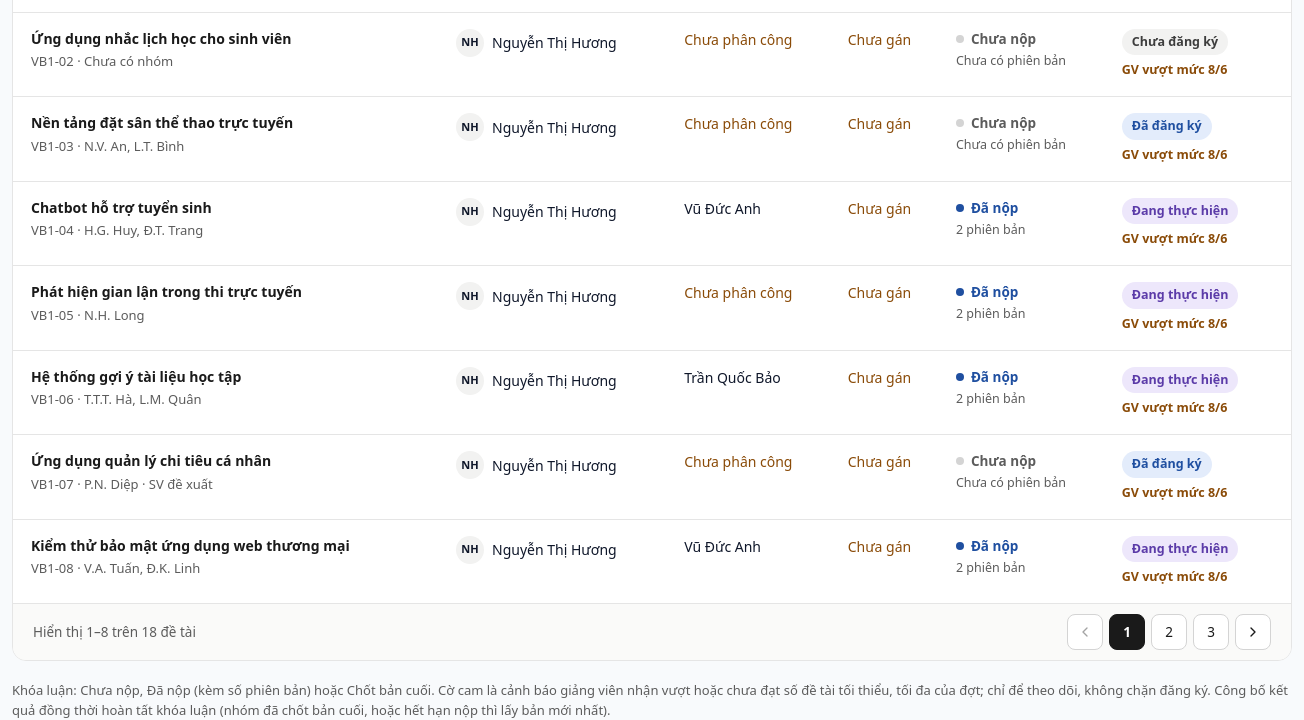
defaults to the first running round, 8 per page, with all columns
(page scrolled)
Expected: the text "Hiển thị 1–8 trên 18 đề tài" is shown, [33, 622, 196, 642]
Expected: the text "VB1-03 · N.V. An, L.T. Bình" is shown, [31, 137, 184, 155]
Click the button named "Trang sau" at (1253, 632), box [1235, 614, 1271, 650]
(page scrolled)
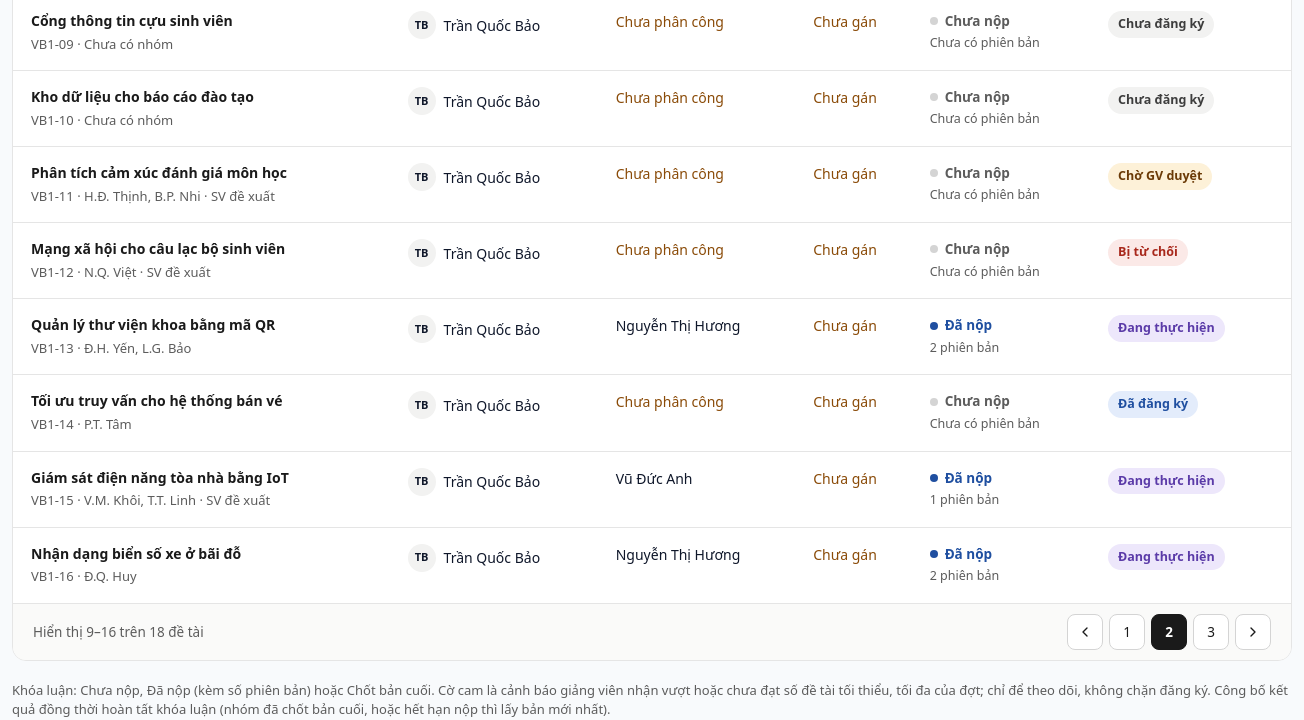
Now the text "Hiển thị 9–16 trên 18 đề tài" is shown, box [33, 622, 204, 642]
Click the button "3" at (1211, 632), box [1193, 614, 1229, 650]
(page scrolled)
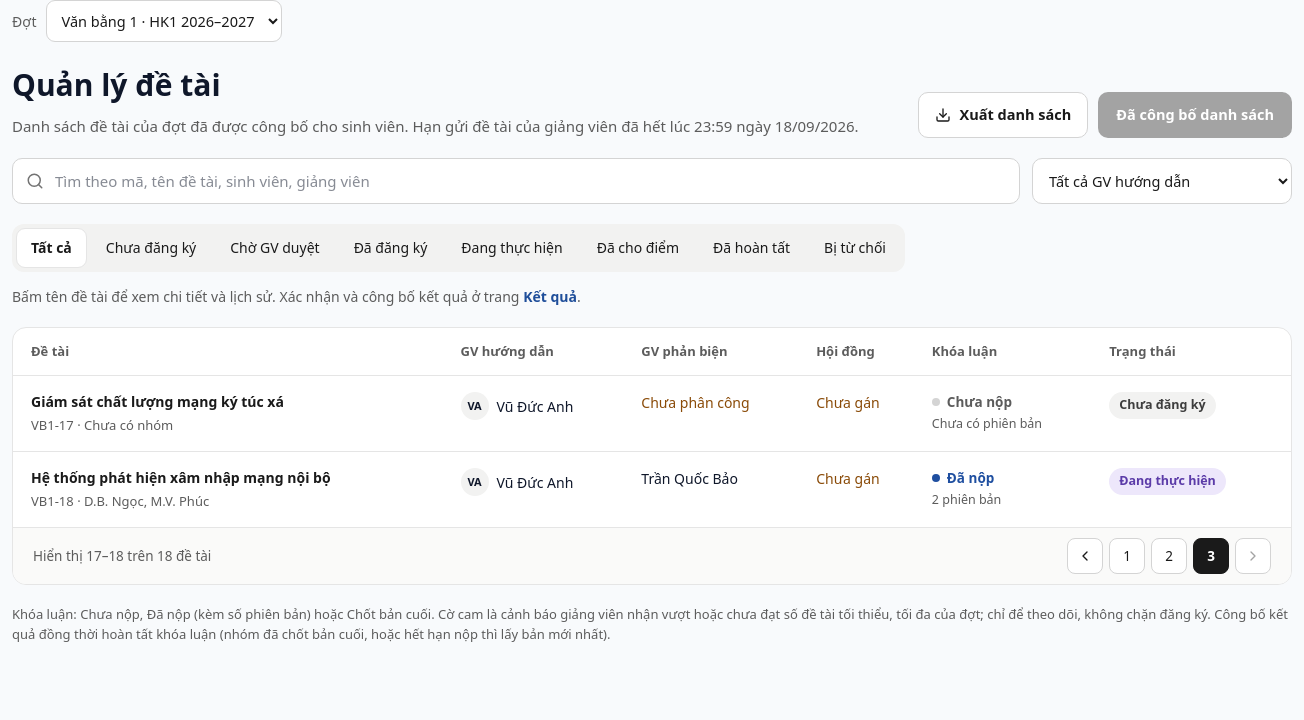
Now the text "Hiển thị 17–18 trên 18 đề tài" is shown, box [33, 546, 211, 566]
Now the button named "Trang sau" is disabled, box [1235, 538, 1271, 574]
